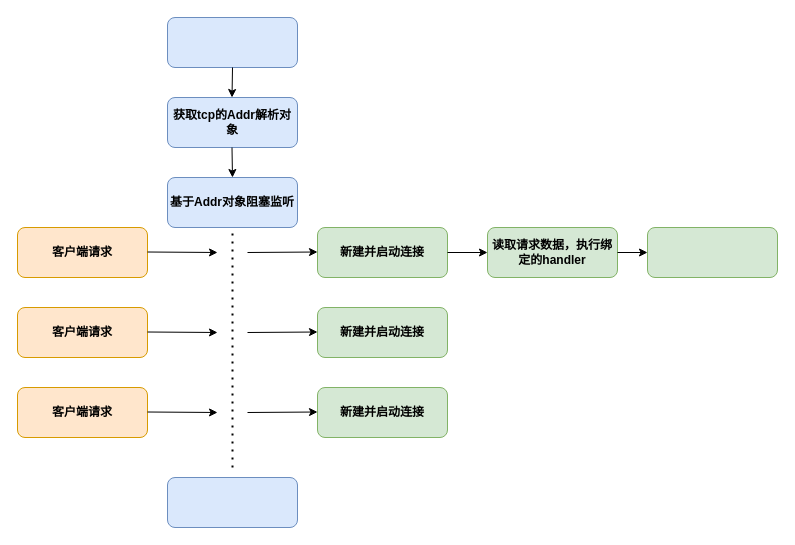
Some shapes in this 795 by 545 pixel diagram are drawn without their labels. The centre of each missing label's shape, as x and y in pixels:
"关闭连接" goes at point (712, 252).
"服务器start" goes at point (232, 42).
"服务器stop" goes at point (232, 502).
